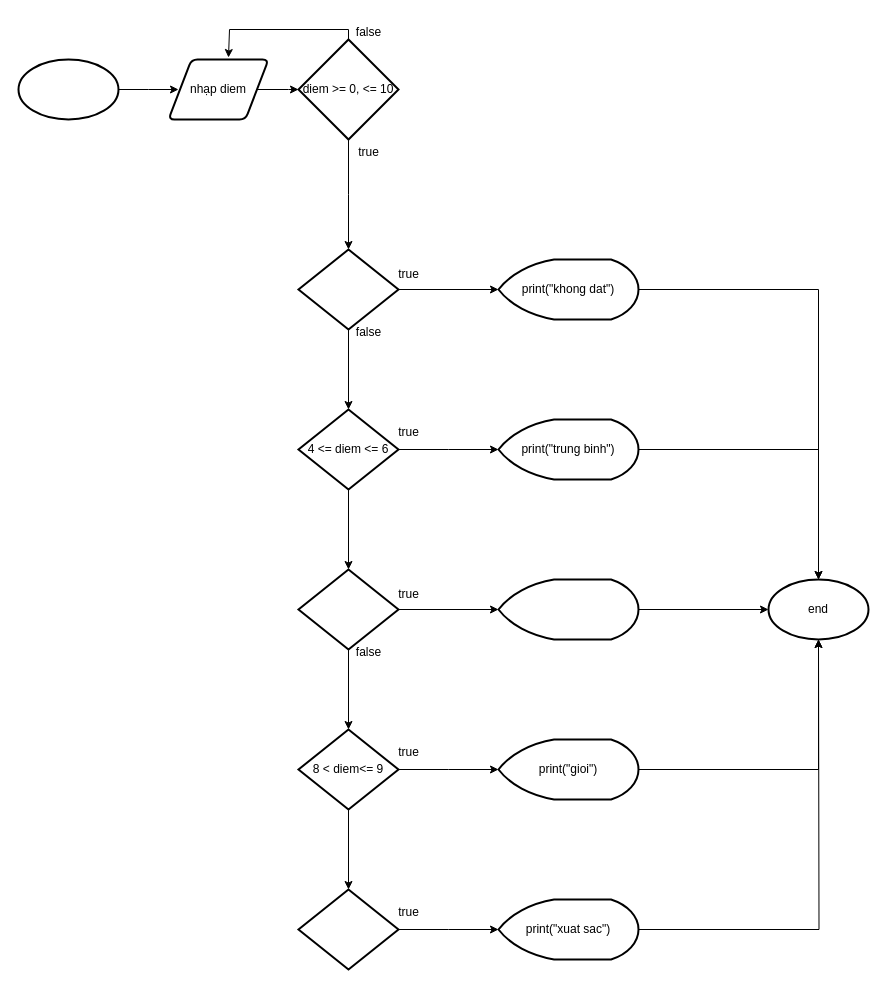
The diagram is 886 pixels wide and 987 high, and some of its shapes have lost their labels. Each missing label, with the box of its shape:
6 < diem <= 8: (297, 568, 399, 650)
9 < score <= 10: (297, 888, 399, 970)
diem < 4: (297, 248, 399, 330)
print("kha"): (497, 578, 639, 640)
start: (17, 58, 119, 120)
